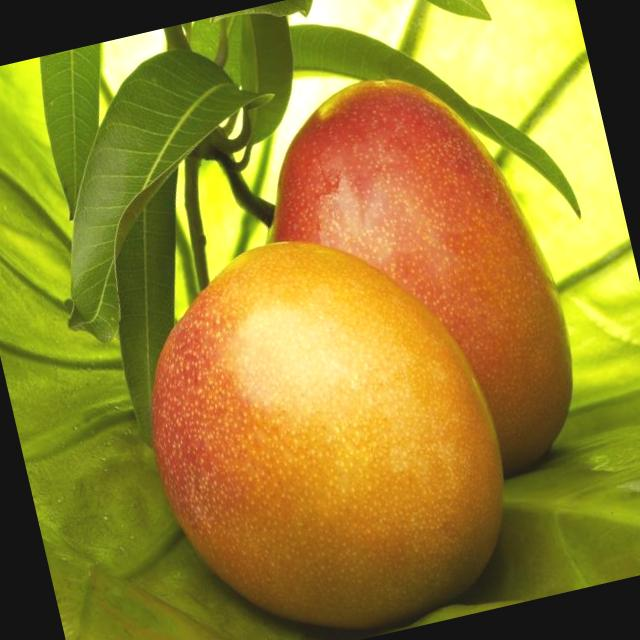Mango: (121, 202, 532, 640), (236, 54, 595, 516)
